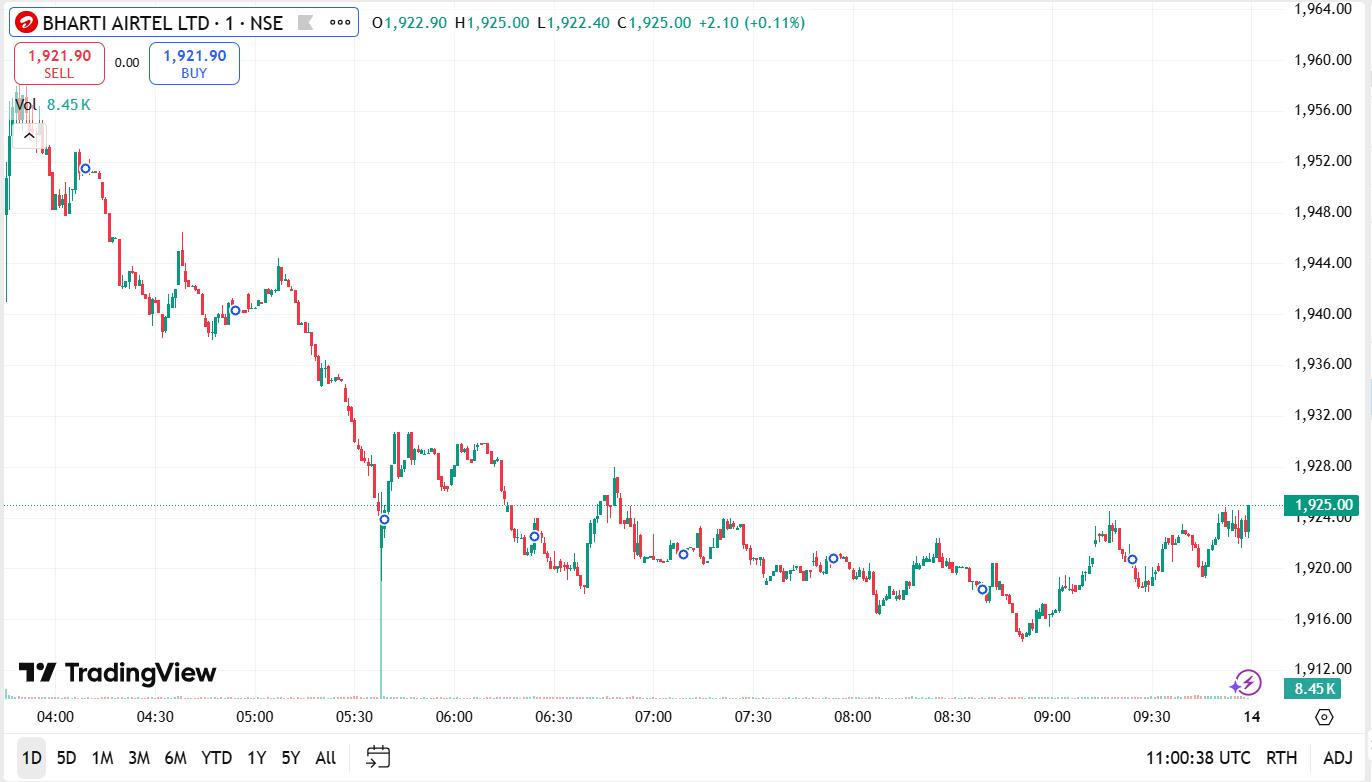Downtrend: (13, 86, 394, 563), (735, 511, 877, 615), (495, 455, 585, 608), (613, 466, 661, 613), (946, 544, 1013, 648)
Sideways: (395, 423, 501, 516), (664, 518, 752, 578)
Uptrend: (1021, 505, 1110, 648), (880, 523, 941, 630)
